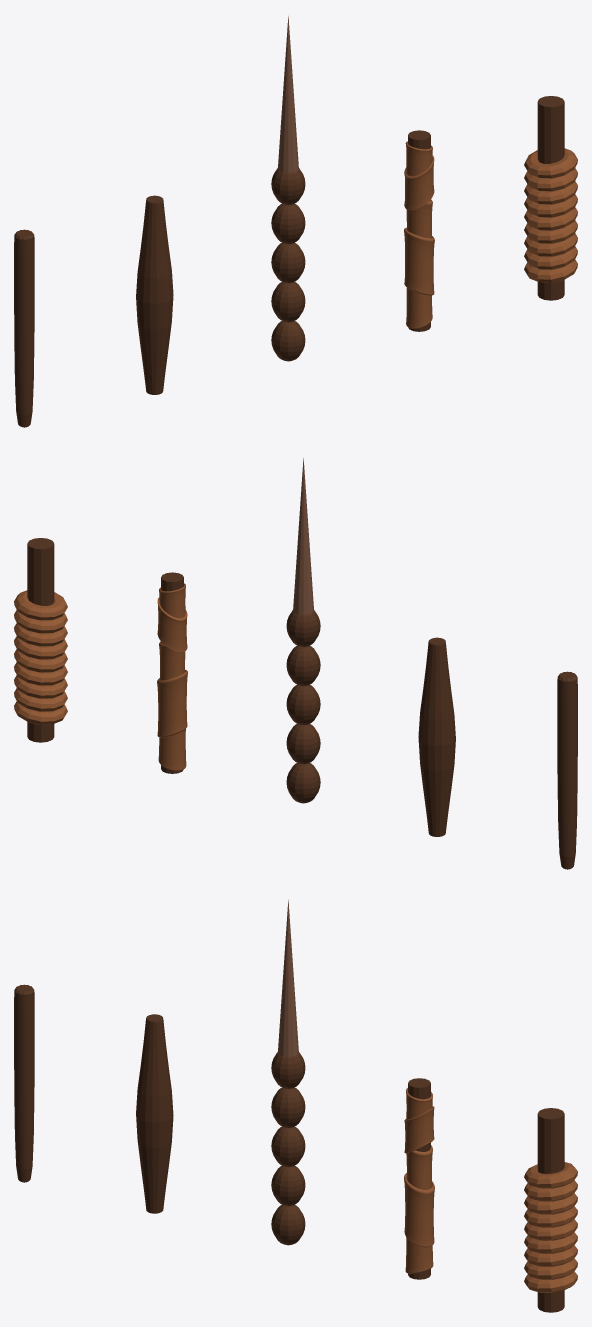
File: ProceduralAssetGeneration.glb
3 views of the same model, one above another, from view 1: azimuth 30°, elevation 25°; view 2: azimuth 150°, elevation 25°; view 3: azimuth 330°, elevation 25° (orthographic).
Parts seen in each view (by area): view 1: Handle_5, Handle_2, Handle_4, Handle_3, Handle_1, Shaft_3; view 2: Handle_5, Handle_2, Handle_4, Handle_3, Handle_1, Shaft_3; view 3: Handle_5, Handle_2, Handle_4, Handle_3, Handle_1, Shaft_3.
Part boxes in pixels (x1,y1,x2,y2): Handle_5: [524, 96, 577, 300]; Handle_2: [136, 195, 173, 394]; Handle_4: [404, 130, 434, 331]; Handle_3: [271, 168, 305, 361]; Handle_1: [14, 229, 34, 427]; Shaft_3: [278, 16, 298, 172]; Handle_5: [14, 538, 67, 742]; Handle_2: [418, 637, 455, 836]; Handle_4: [157, 572, 187, 773]; Handle_3: [286, 610, 320, 803]; Handle_1: [557, 671, 577, 869]; Shaft_3: [293, 458, 313, 614]; Handle_5: [524, 1108, 577, 1312]; Handle_2: [136, 1014, 173, 1213]; Handle_4: [404, 1078, 434, 1279]; Handle_3: [271, 1052, 305, 1245]; Handle_1: [14, 984, 34, 1182]; Shaft_3: [278, 899, 298, 1056].
Size of the model in its own units: 0.8489 by 0.5036 by 0.0714.
